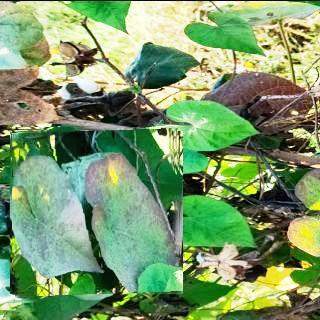leaf spot: (12, 126, 182, 297)
